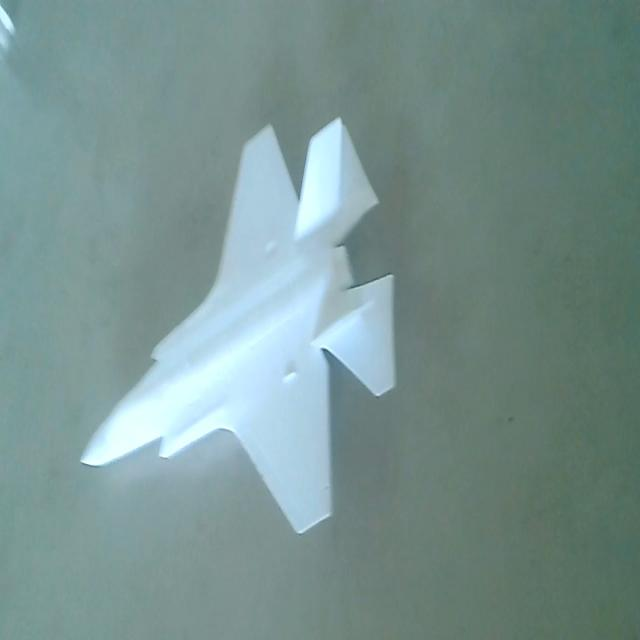Jet: (70, 115, 400, 546)
